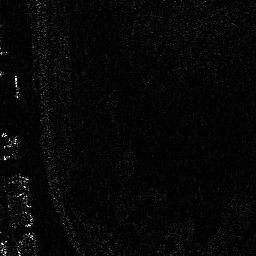ship: (13, 73, 21, 99)
